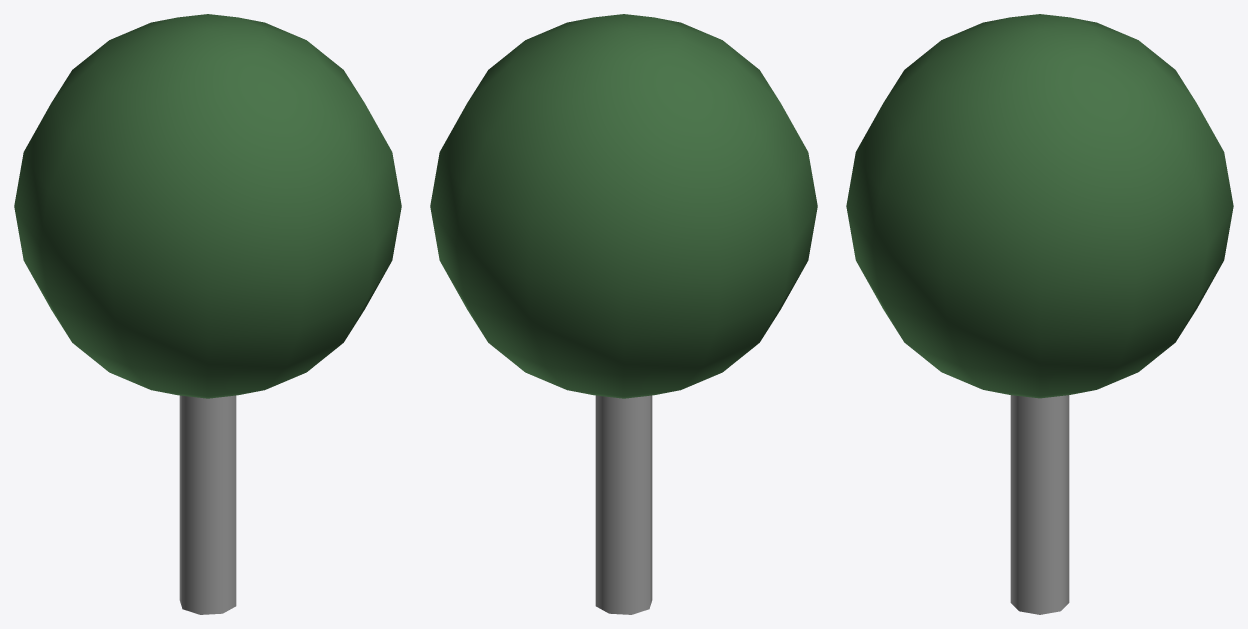
The model's file is arbre02.fbx.
3 renders of one model, left to right at view 1: azimuth 30°, elevation 25°; view 2: azimuth 150°, elevation 25°; view 3: azimuth 270°, elevation 25°, orthographic.
Parts seen in each view (by area): view 1: arbre02; view 2: arbre02; view 3: arbre02.
Boxes of the visible parts, x1,y1,x2,y2 form: arbre02: (14,14,401,614); arbre02: (430,14,817,614); arbre02: (846,14,1233,614).
Size of the model in its own units: 4.24 by 6.91 by 4.24.
